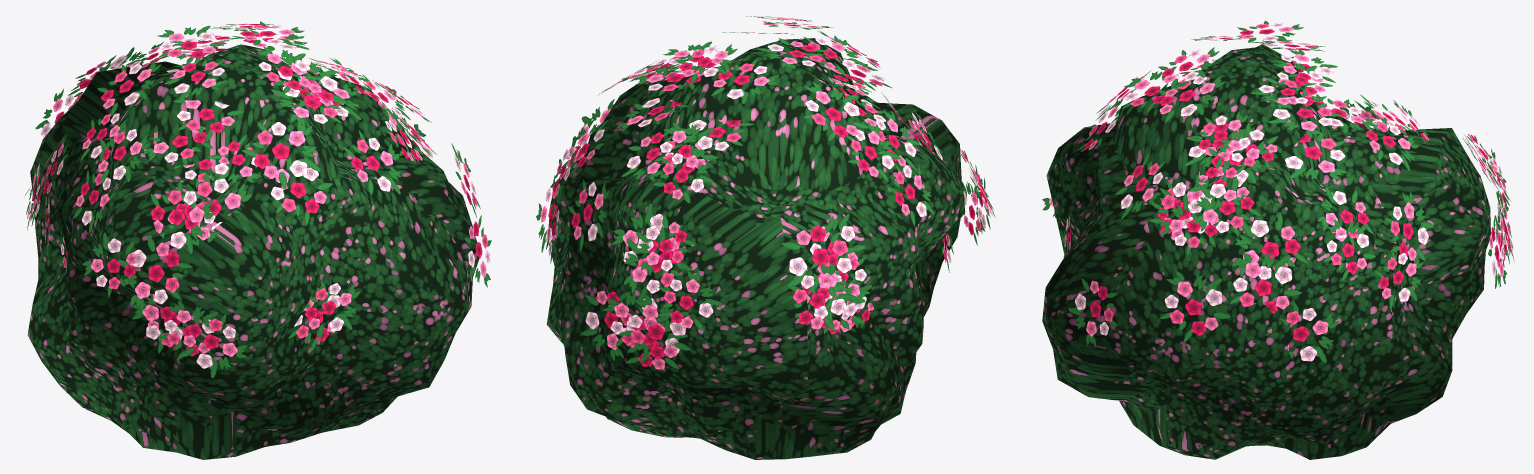
The model's file is citadel_rose_bush.glb.
3 views of the same model, side by side, from view 1: azimuth 30°, elevation 25°; view 2: azimuth 150°, elevation 25°; view 3: azimuth 270°, elevation 25° (orthographic). The views are drawn at different scales.
Parts seen in each view (by area): view 1: rosebush_Hedge_Roses, rosebush_Rose_Card; view 2: rosebush_Hedge_Roses, rosebush_Rose_Card; view 3: rosebush_Hedge_Roses, rosebush_Rose_Card.
Boxes of the visible parts, x1,y1,x2,y2 form: rosebush_Hedge_Roses: [27, 44, 479, 459]; rosebush_Rose_Card: [25, 21, 491, 378]; rosebush_Hedge_Roses: [546, 38, 965, 459]; rosebush_Rose_Card: [536, 16, 995, 369]; rosebush_Hedge_Roses: [1042, 44, 1490, 459]; rosebush_Rose_Card: [1042, 20, 1514, 362].
Bounding box in the file's own units: 2.76 × 2.41 × 2.94.
Materials: 2 (2 with a texture image).
